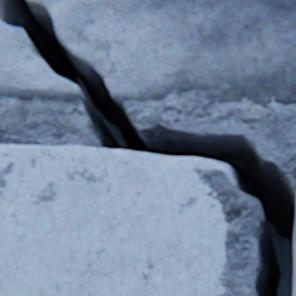brick: (0, 145, 228, 295), (293, 209, 295, 295)
broken_brick: (26, 0, 295, 104), (0, 21, 84, 99), (0, 0, 2, 9)
crack: (0, 0, 295, 295)
